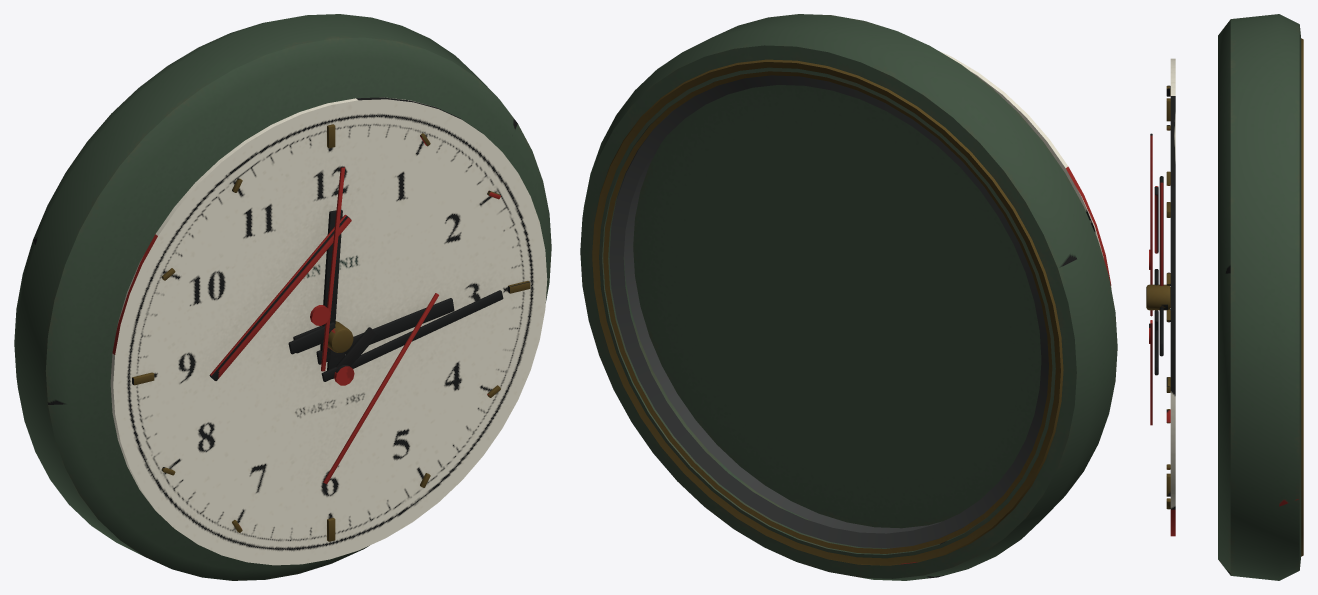
Rendered from CTCC_PROP_WallClock.fbx.
3 renders of one model, left to right at view 1: azimuth 30°, elevation 25°; view 2: azimuth 150°, elevation 25°; view 3: azimuth 270°, elevation 25°, orthographic. The views are drawn at different scales.
Parts seen in each view (by area): view 1: ClockBody, HandsB, HandsR; view 2: ClockBody; view 3: ClockBody, HandsR, HandsB.
Boxes of the visible parts, x1=… form: ClockBody: x1=14, y1=14, x2=551, y2=580; HandsB: x1=288, y1=290, x2=503, y2=484; HandsR: x1=209, y1=166, x2=377, y2=385; ClockBody: x1=580, y1=14, x2=1117, y2=580; ClockBody: x1=1146, y1=14, x2=1303, y2=580; HandsR: x1=1149, y1=133, x2=1163, y2=343; HandsB: x1=1149, y1=249, x2=1163, y2=425.
Size of the model in its own units: 0.444 by 0.444 by 0.123.
